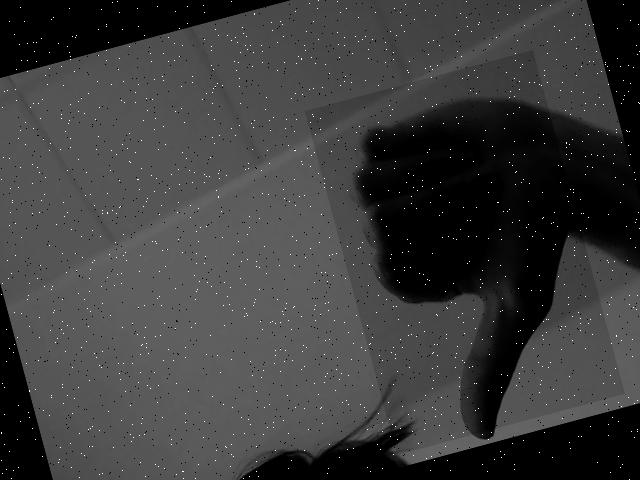bad: (305, 50, 625, 454)
